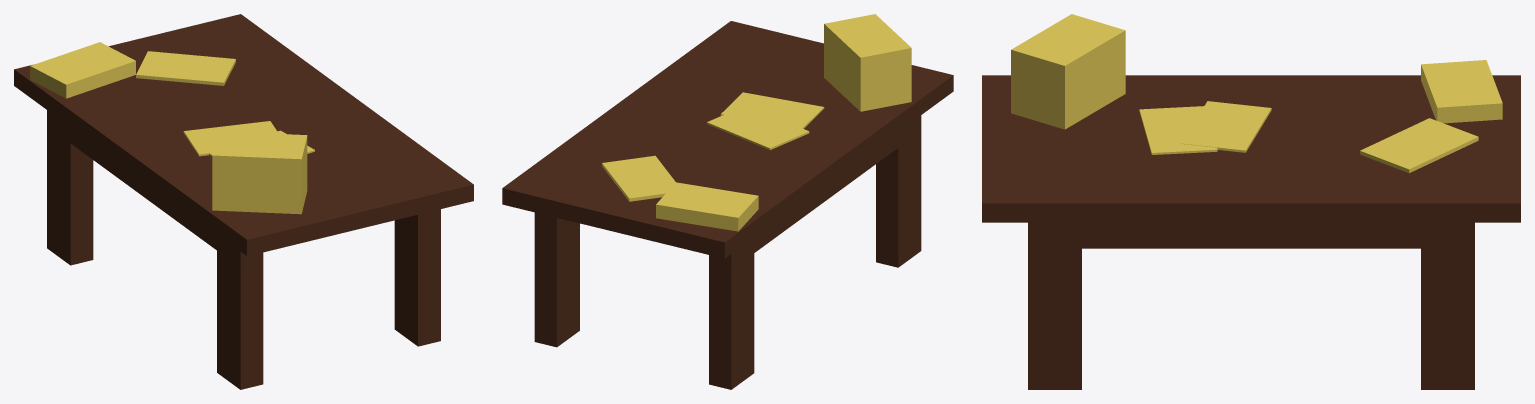
The model's file is mesa2.glb.
3 views of the same model, side by side, from view 1: azimuth 30°, elevation 25°; view 2: azimuth 150°, elevation 25°; view 3: azimuth 270°, elevation 25° (orthographic). The views are drawn at different scales.
Visible parts, largest first — view 1: Mesa; view 2: Mesa; view 3: Mesa.
Part boxes in pixels (x1,y1,x2,y2): Mesa: (14, 14, 473, 389); Mesa: (502, 14, 953, 389); Mesa: (982, 14, 1520, 389).
Bounding box in the file's own units: 0.8013 × 0.7525 × 1.43.
